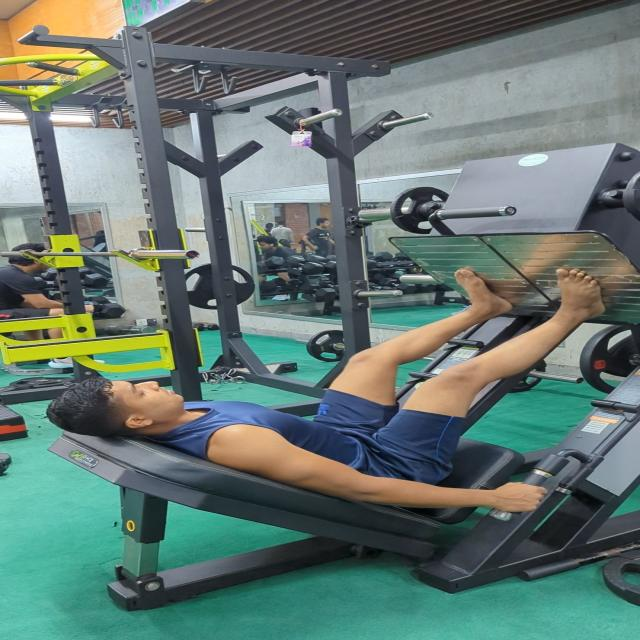Normal_LegPress: (39, 260, 614, 517)
